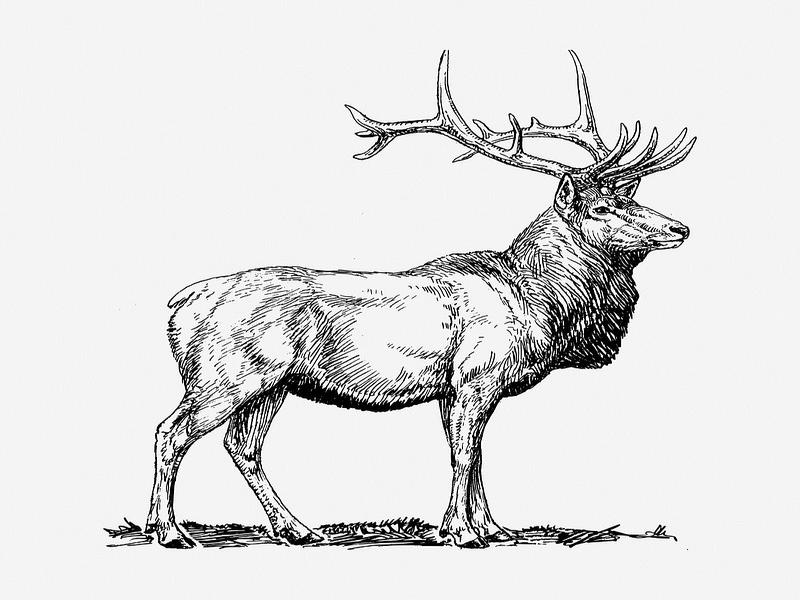elk: (129, 101, 699, 551)
